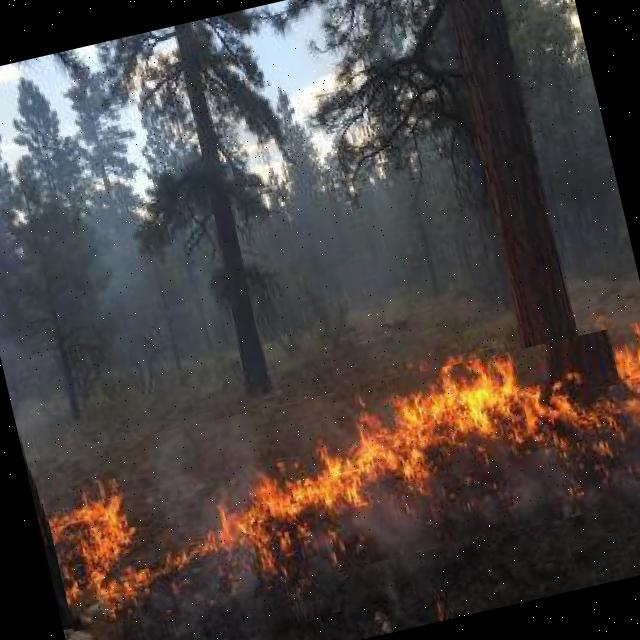fire: (34, 319, 640, 631)
